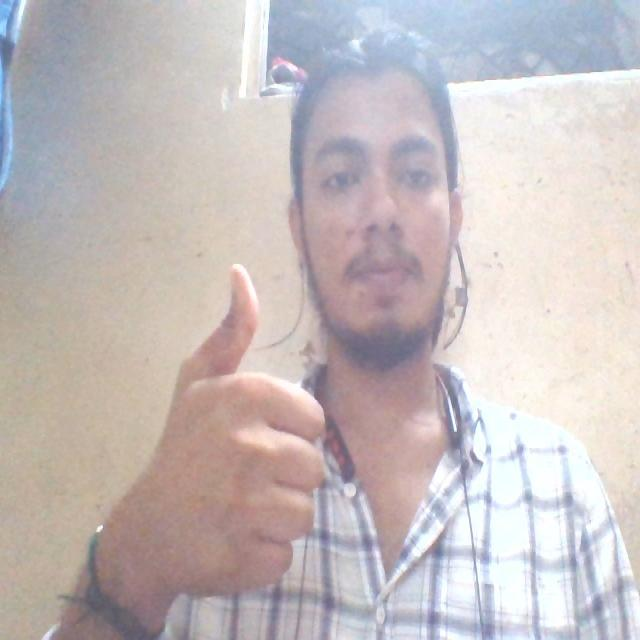Yes: (146, 258, 332, 596)
